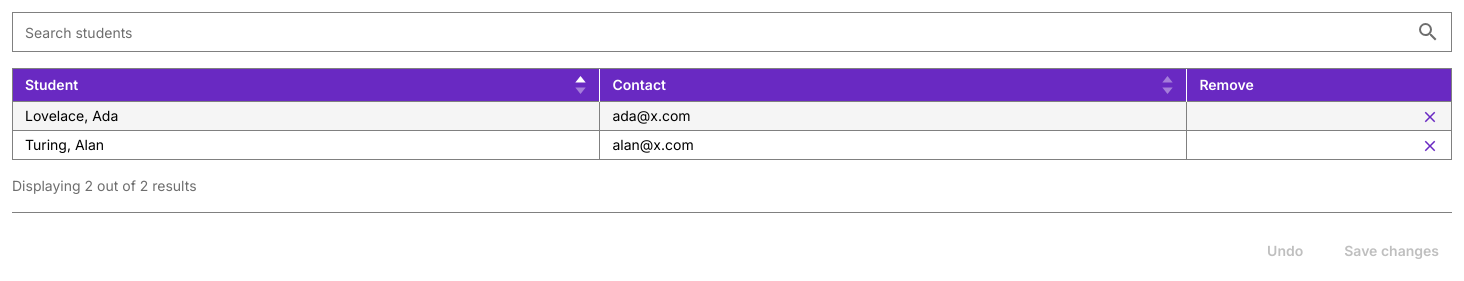
Test: StudentsTab › restores a staged removal on Undo (nothing persisted)
Click the button named "Remove Lovelace, Ada". click: (1430, 116)
box: [1421,106,1439,126]
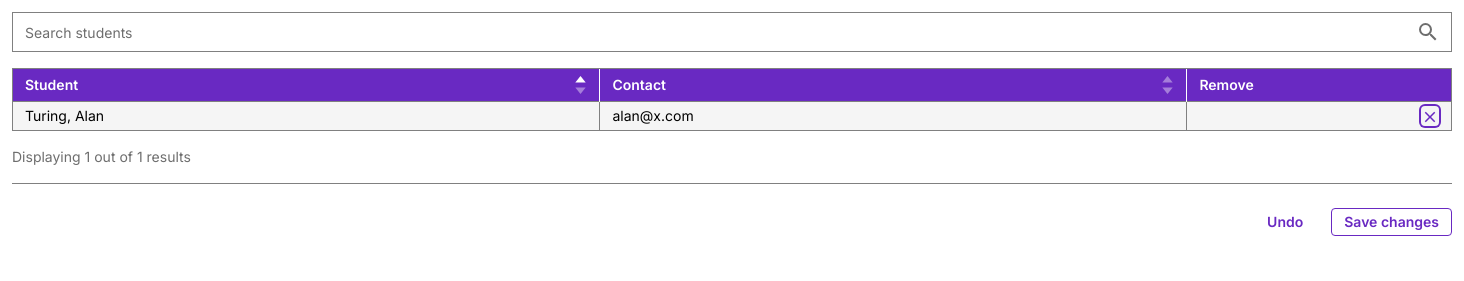
Expected: the button "Lovelace, Ada" is gone
Click the button "Undo". click: (1285, 222)
box: [1255,208,1315,236]
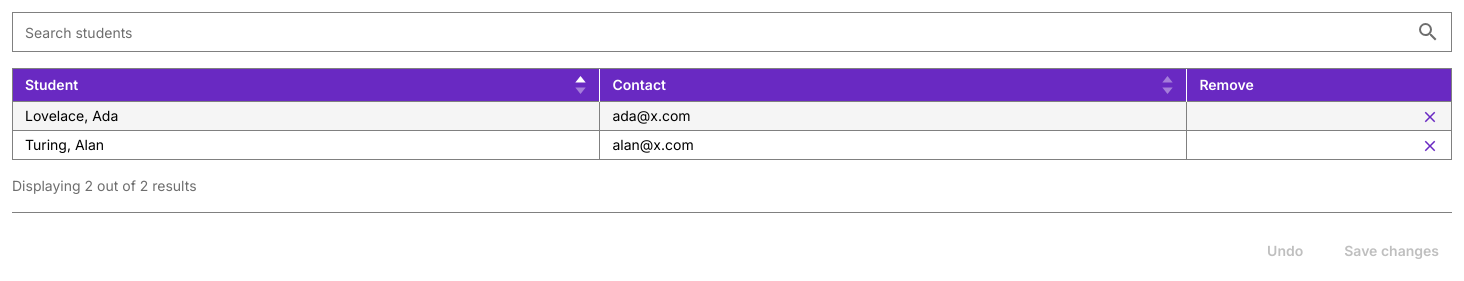
Expected: the button "Lovelace, Ada" is shown, [25,106,118,126]
Expected: the button "Undo" is disabled, [1255,237,1315,265]
Expected: the button "Save changes" is disabled, [1331,237,1452,265]
